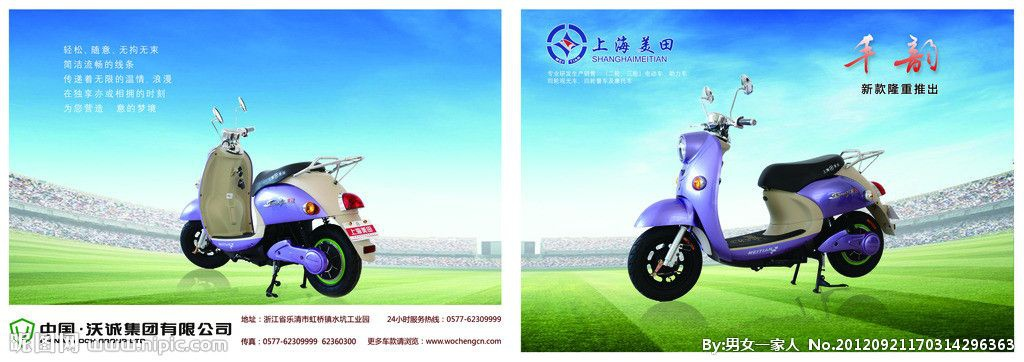non-vehicle: (627, 58, 893, 303), (158, 93, 382, 301)
